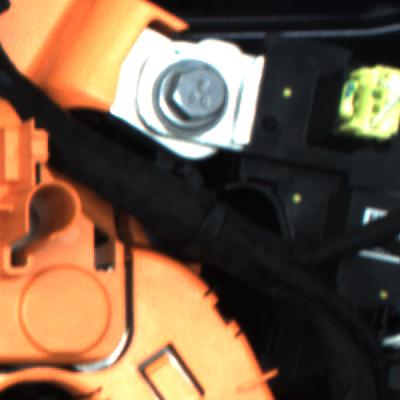nut_b: (149, 52, 241, 138)
